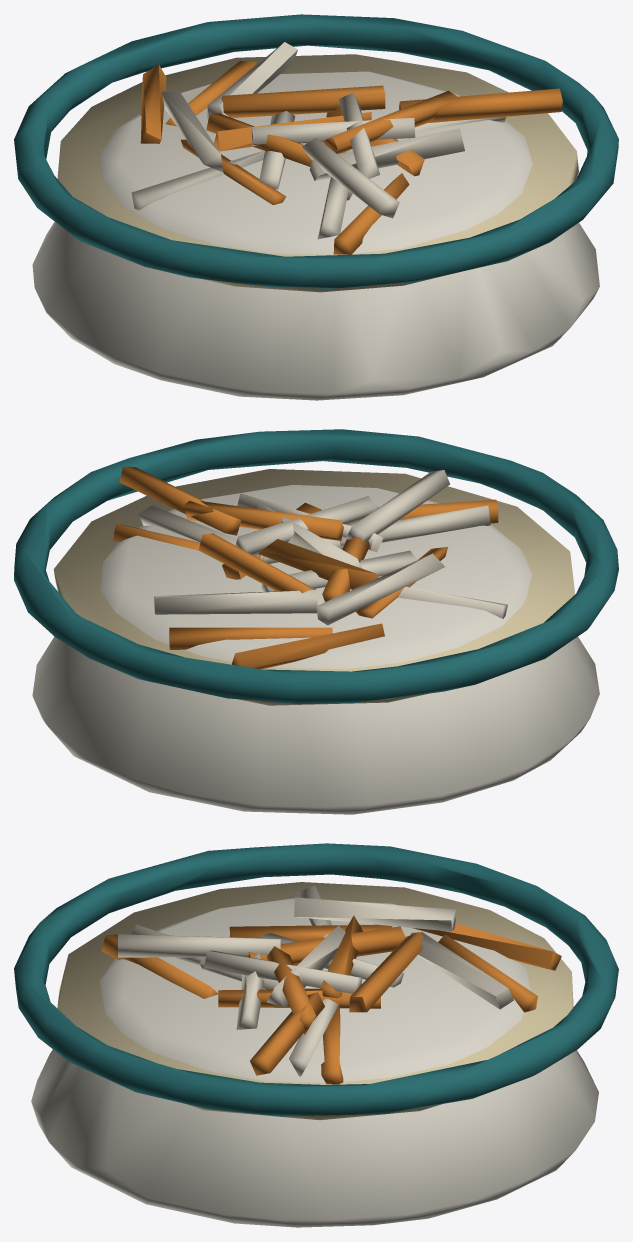
Rendered from do_chua_chen.glb.
3 renders of one model, top to bottom at view 1: azimuth 30°, elevation 25°; view 2: azimuth 150°, elevation 25°; view 3: azimuth 270°, elevation 25°, orthographic.
Parts seen in each view (by area): view 1: do_chua_chen; view 2: do_chua_chen; view 3: do_chua_chen.
Boxes of the visible parts, x1,y1,x2,y2 form: do_chua_chen: (14,14,618,400); do_chua_chen: (14,429,618,814); do_chua_chen: (14,843,618,1227).
Bounding box in the file's own units: 0.1857 × 0.0556 × 0.186.
